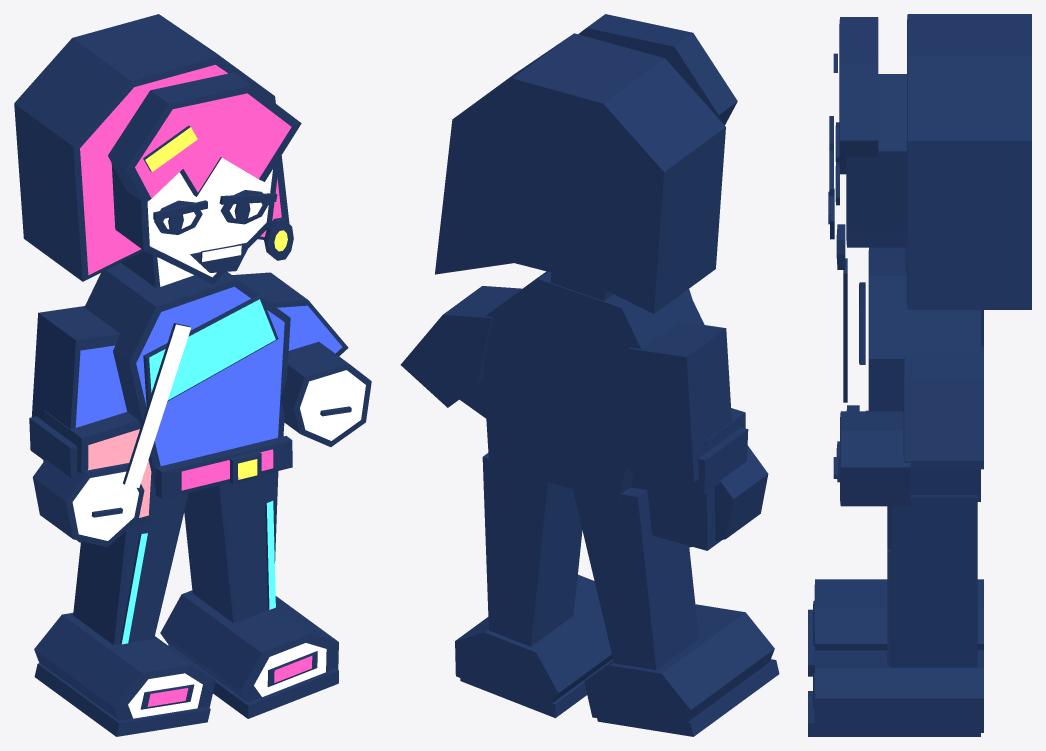
File: customer_2.glb
3 renders of one model, left to right at view 1: azimuth 30°, elevation 25°; view 2: azimuth 150°, elevation 25°; view 3: azimuth 270°, elevation 25°, orthographic. The views are drawn at different scales.
Visible parts, largest first — view 1: HeadPivot_Art.002, BodyPivot_Art.002, RightLegPivot_Art.002, LeftLegPivot_Art.002, LeftArmPivot_Art.002, RightArmPivot_Art.002; view 2: HeadPivot_Art.002, BodyPivot_Art.002, LeftLegPivot_Art.002, RightLegPivot_Art.002, LeftArmPivot_Art.002, RightArmPivot_Art.002; view 3: HeadPivot_Art.002, RightLegPivot_Art.002, RightArmPivot_Art.002, BodyPivot_Art.002, LeftLegPivot_Art.002.
Boxes of the visible parts, left/top/right/bottom form: HeadPivot_Art.002: left=14, top=14, right=301, bottom=287; BodyPivot_Art.002: left=43, top=263, right=292, bottom=542; RightLegPivot_Art.002: left=160, top=471, right=338, bottom=718; LeftLegPivot_Art.002: left=34, top=490, right=215, bottom=736; LeftArmPivot_Art.002: left=29, top=306, right=144, bottom=547; RightArmPivot_Art.002: left=232, top=272, right=371, bottom=446; HeadPivot_Art.002: left=435, top=14, right=737, bottom=313; BodyPivot_Art.002: left=483, top=271, right=745, bottom=550; LeftLegPivot_Art.002: left=572, top=487, right=779, bottom=736; RightLegPivot_Art.002: left=455, top=453, right=613, bottom=718; LeftArmPivot_Art.002: left=625, top=321, right=768, bottom=547; RightArmPivot_Art.002: left=400, top=286, right=522, bottom=418; HeadPivot_Art.002: left=828, top=14, right=1031, bottom=309; RightLegPivot_Art.002: left=808, top=495, right=983, bottom=736; RightArmPivot_Art.002: left=833, top=346, right=983, bottom=506; BodyPivot_Art.002: left=836, top=247, right=980, bottom=501; LeftLegPivot_Art.002: left=808, top=506, right=983, bottom=676.
Size of the model in its own units: 1.14 by 2.28 by 0.702.
